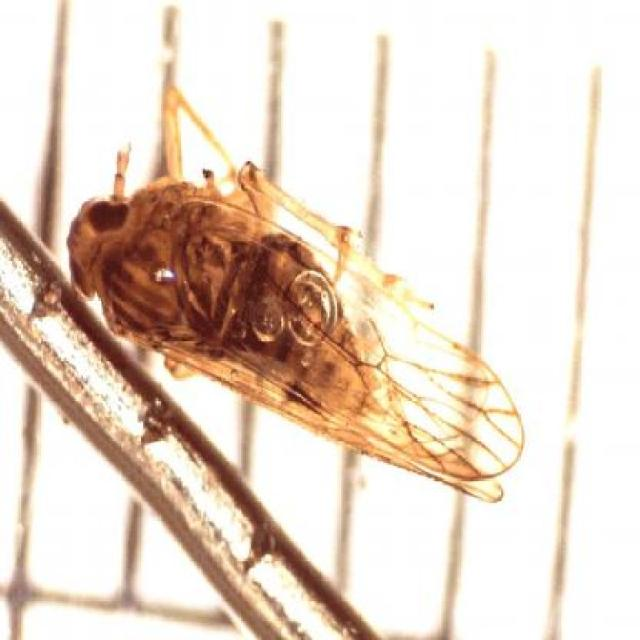brown-planthopper: (66, 162, 527, 505)
